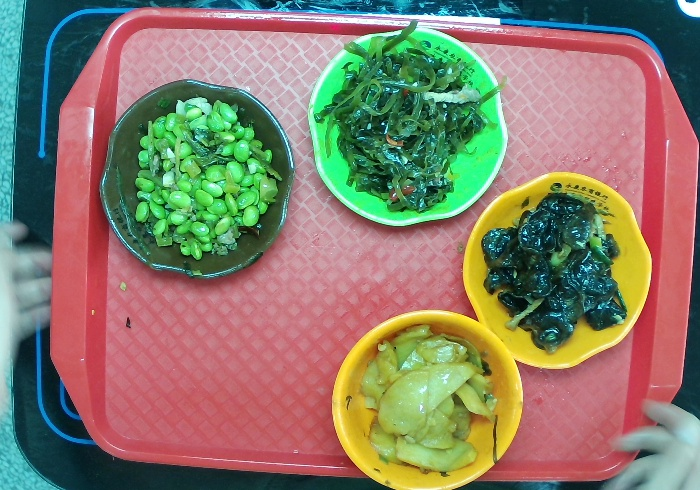YKMZ-Ju_Se_Ao_Bian_Wan: (458, 166, 657, 370)
YKMZ-Ju_Se_Yuan_Wan: (326, 301, 527, 487)
YKMZ-Ka_Fei_Ao_Bian_Wan: (94, 70, 298, 283)
YKMZ-Lv_Se_Ao_Bian_Wan: (303, 22, 516, 234)
